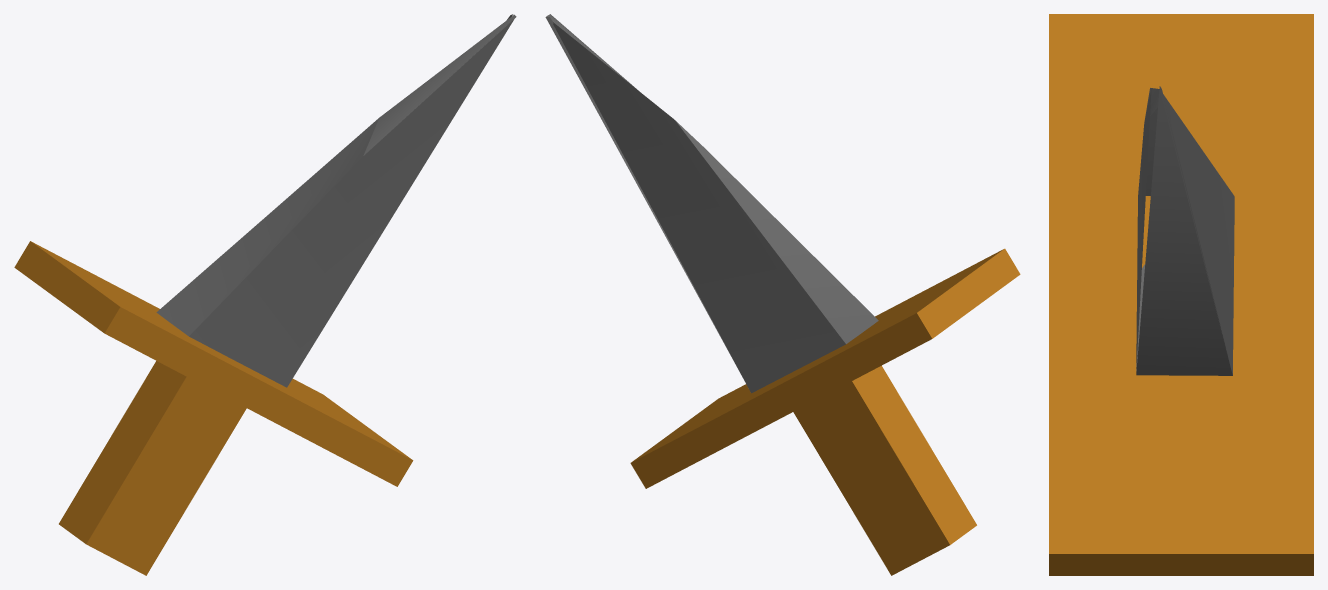
The model's file is Stone Sword.glb.
3 renders of one model, left to right at view 1: azimuth 30°, elevation 25°; view 2: azimuth 150°, elevation 25°; view 3: azimuth 270°, elevation 25°, orthographic. The views are drawn at different scales.
Parts seen in each view (by area): view 1: Cube001_1, Cube001; view 2: Cube001_1, Cube001; view 3: Cube001_1, Cube001.
Boxes of the visible parts, bbox=[...] form: Cube001_1: bbox=[14, 241, 413, 575]; Cube001: bbox=[156, 14, 516, 387]; Cube001_1: bbox=[630, 248, 1020, 575]; Cube001: bbox=[545, 14, 878, 393]; Cube001_1: bbox=[1049, 14, 1313, 575]; Cube001: bbox=[1136, 86, 1234, 375].
Bounding box in the file's own units: 7.39 × 7.35 × 2.58.
